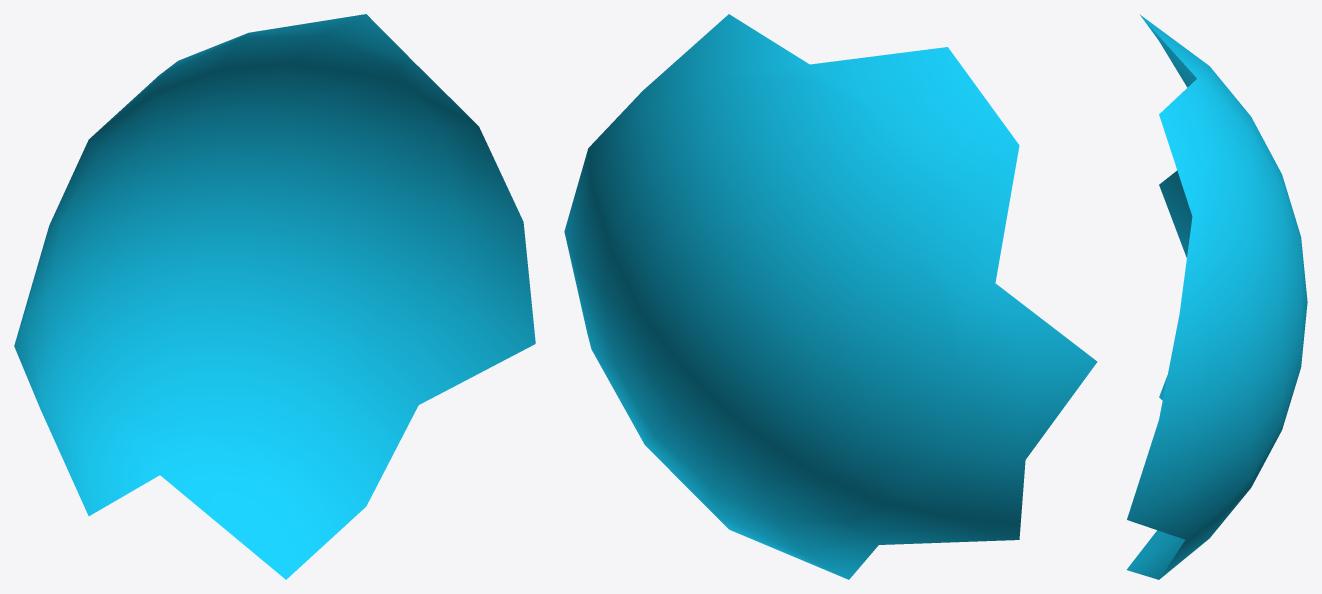
File: SnowCone_Syrup_Blue.fbx
3 renders of one model, left to right at view 1: azimuth 30°, elevation 25°; view 2: azimuth 150°, elevation 25°; view 3: azimuth 270°, elevation 25°, orthographic. The views are drawn at different scales.
Parts seen in each view (by area): view 1: 球; view 2: 球; view 3: 球.
Boxes of the visible parts, x1,y1,x2,y2 form: 球: (14, 14, 535, 579); 球: (564, 14, 1097, 579); 球: (1126, 14, 1307, 579).
Size of the model in its own units: 1.64 by 1.66 by 0.5338.
